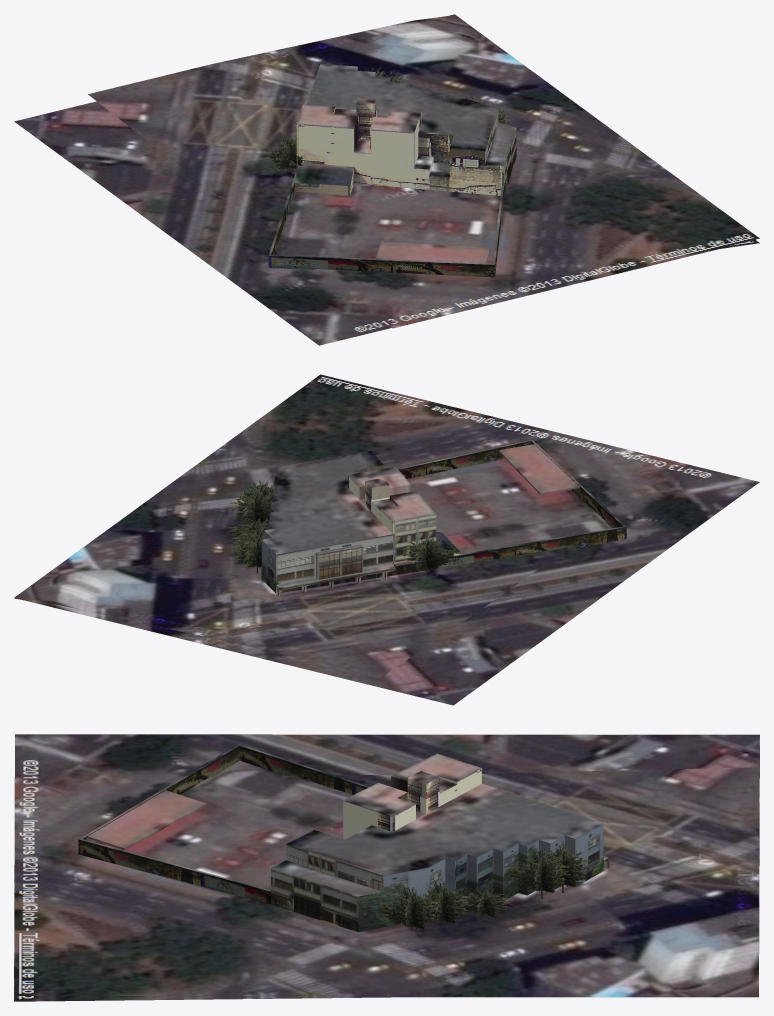
The model's file is cuartel.glb.
The picture shows the model from 3 angles, top to bottom: view 1: azimuth 30°, elevation 25°; view 2: azimuth 150°, elevation 25°; view 3: azimuth 270°, elevation 25°; orthographic projection. The views are drawn at different scales.
Visible parts, largest first — view 1: Google Earth Terrain (×8), Google Earth Snapshot, Root (×11); view 2: Google Earth Terrain (×8), Google Earth Snapshot, Root (×12), Group (×2); view 3: Google Earth Terrain (×11), Google Earth Snapshot, Root (×21), Group (×8).
Boxes of the visible parts, bbox=[...] form: Google Earth Terrain (×8): bbox=[88, 20, 685, 303]; Google Earth Snapshot: bbox=[14, 14, 759, 345]; Root (×11): bbox=[268, 64, 516, 277]; Google Earth Terrain (×8): bbox=[33, 408, 652, 677]; Google Earth Snapshot: bbox=[14, 374, 759, 705]; Root (×12): bbox=[261, 439, 626, 592]; Group (×2): bbox=[229, 490, 457, 573]; Google Earth Terrain (×11): bbox=[20, 767, 759, 1001]; Google Earth Snapshot: bbox=[14, 734, 759, 996]; Root (×21): bbox=[78, 744, 609, 932]; Group (×8): bbox=[378, 845, 592, 930].
Size of the model in its own units: 103 by 18.96 by 124.
8 materials, 7 textured.
